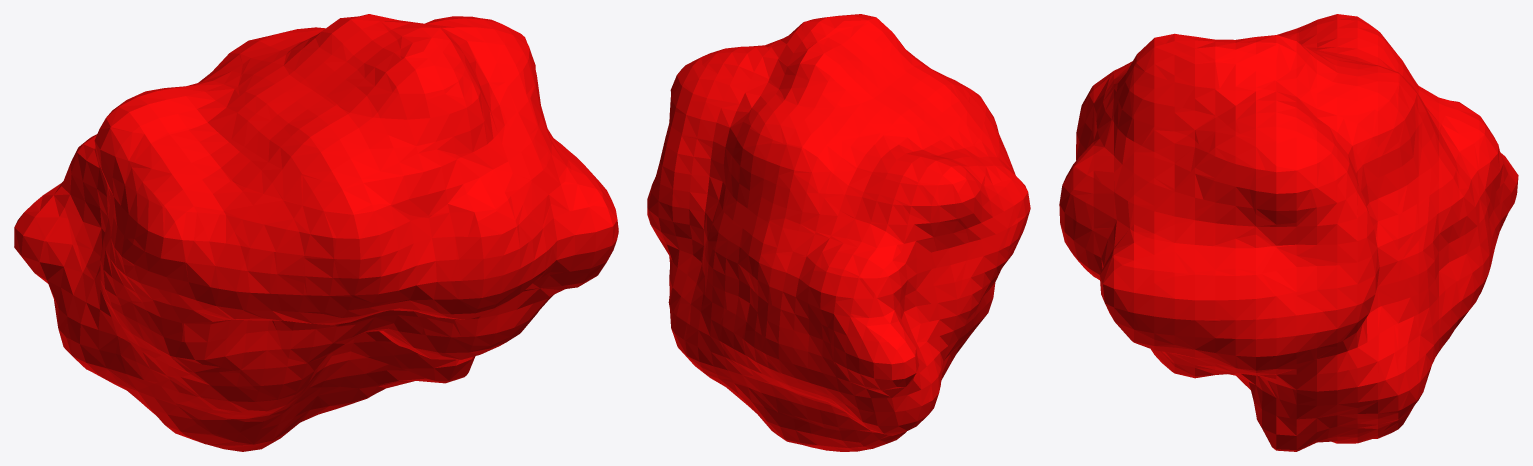
Rendered from rsmG_coarse.dae.
The picture shows the model from 3 angles, left to right: view 1: azimuth 30°, elevation 25°; view 2: azimuth 150°, elevation 25°; view 3: azimuth 270°, elevation 25°; orthographic projection. The views are drawn at different scales.
Parts seen in each view (by area): view 1: rsmG; view 2: rsmG; view 3: rsmG.
Boxes of the visible parts, x1,y1,x2,y2 form: rsmG: (14, 14, 618, 451); rsmG: (647, 14, 1030, 451); rsmG: (1059, 14, 1518, 451).
Bounding box in the file's own units: 47.88 × 46.77 × 46.11.
